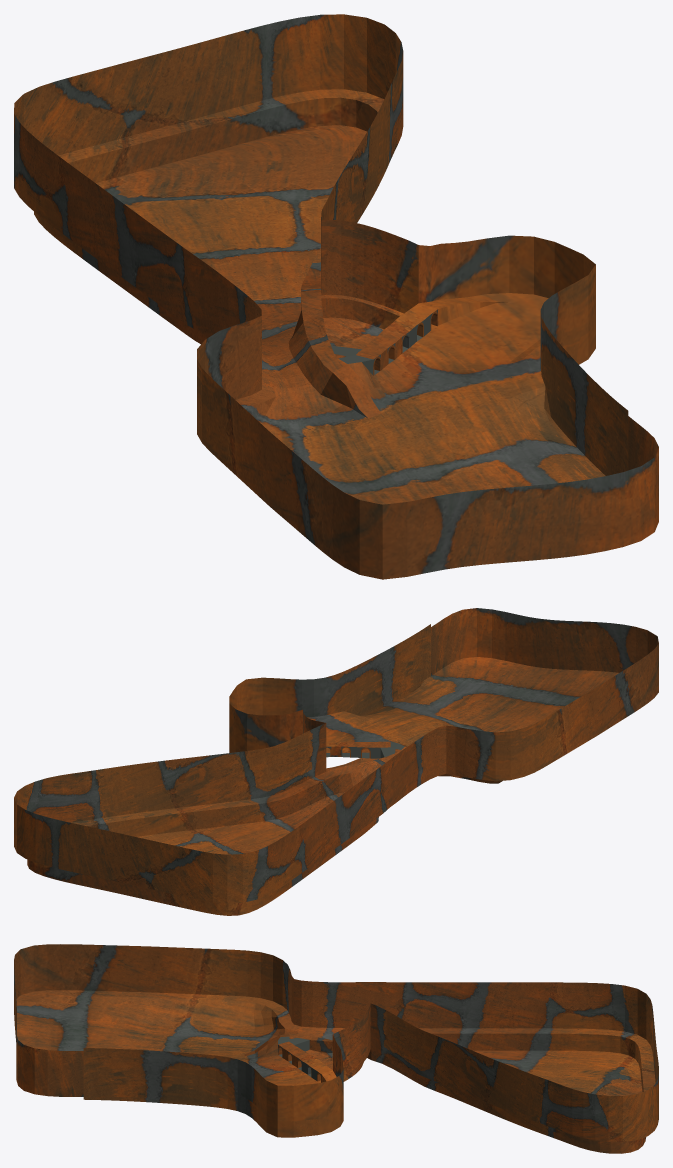
The model's file is battle test.obj.
3 renders of one model, top to bottom at view 1: azimuth 30°, elevation 25°; view 2: azimuth 150°, elevation 25°; view 3: azimuth 270°, elevation 25°, orthographic. The views are drawn at different scales.
Visible parts, largest first — view 1: Cube; view 2: Cube; view 3: Cube.
Boxes of the visible parts, bbox=[...] form: Cube: bbox=[14, 14, 658, 579]; Cube: bbox=[14, 608, 658, 915]; Cube: bbox=[14, 944, 658, 1153].
Size of the model in its own units: 14.23 by 3.27 by 25.4.
1 material, 1 textured.
